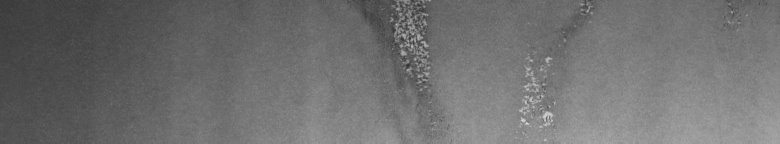hc: (356, 4, 443, 126)
